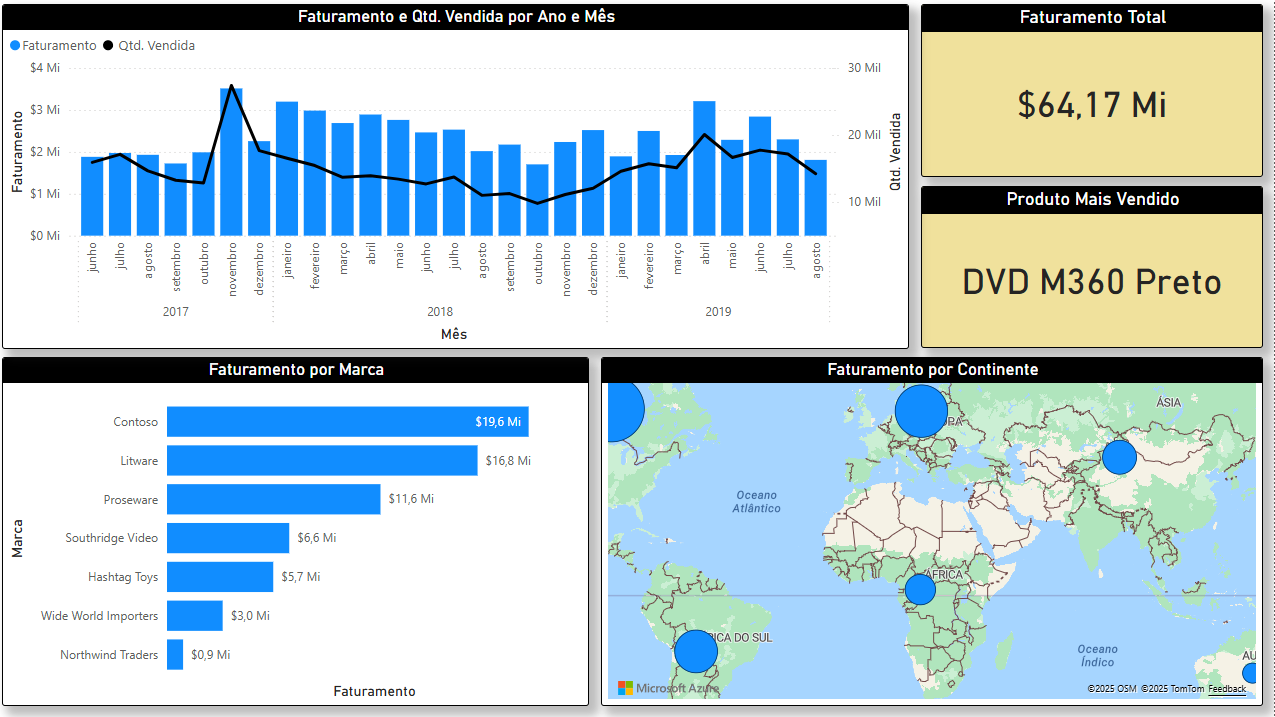

The page's visual inventory and layout, read from the dashboard file:
{"tool":"powerbi","page":{"name":"Página 1","canvas":[1280,720],"ordinal":0},"visuals":[{"type":"card","title":"Faturamento Total","fields":{"Values":["Sum(BaseVendas.Faturamento)"]},"box":[926.7,6.7,342.2,173.3],"z":0},{"type":"card","title":"Produto Mais Vendido","fields":{"Values":["Min(BaseVendas.Produto)"]},"box":[926.7,188.9,342.2,162.2],"z":1000},{"type":"barChart","title":"Faturamento por Marca","fields":{"Y":["Sum(BaseVendas.Faturamento)"],"Category":["BaseVendas.Marca"]},"box":[8,360,587,349.4],"z":3000},{"type":"lineStackedColumnComboChart","title":"Faturamento e Qtd. Vendida por Ano e Mês","fields":{"Y":["Sum(BaseVendas.Faturamento)"],"Y2":["Sum(BaseVendas.Qtd. Vendida)"],"Category":["BaseVendas.Data da Venda.Variation.Hierarquia de datas.Ano","BaseVendas.Data da Venda.Variation.Hierarquia de datas.Mês"]},"box":[8,7.1,907.1,344.9],"z":4000},{"type":"azureMap","title":"Faturamento por Continente","fields":{"Category":["BaseVendas.Continente"],"Size":["Sum(BaseVendas.Faturamento)"]},"box":[607.4,360,661.5,349.4],"z":5000}]}

Visuals, with their boxes in screenshot pixels (x1, y1, x2, y2), scaled from the page's 1280x720 canvas onto the 1275x717 screenshot:
"Faturamento Total" card: 923/7/1264/179
"Produto Mais Vendido" card: 923/188/1264/350
"Faturamento por Marca" barChart: 8/358/593/706
"Faturamento e Qtd. Vendida por Ano e Mês" lineStackedColumnComboChart: 8/7/912/351
"Faturamento por Continente" azureMap: 605/358/1264/706
